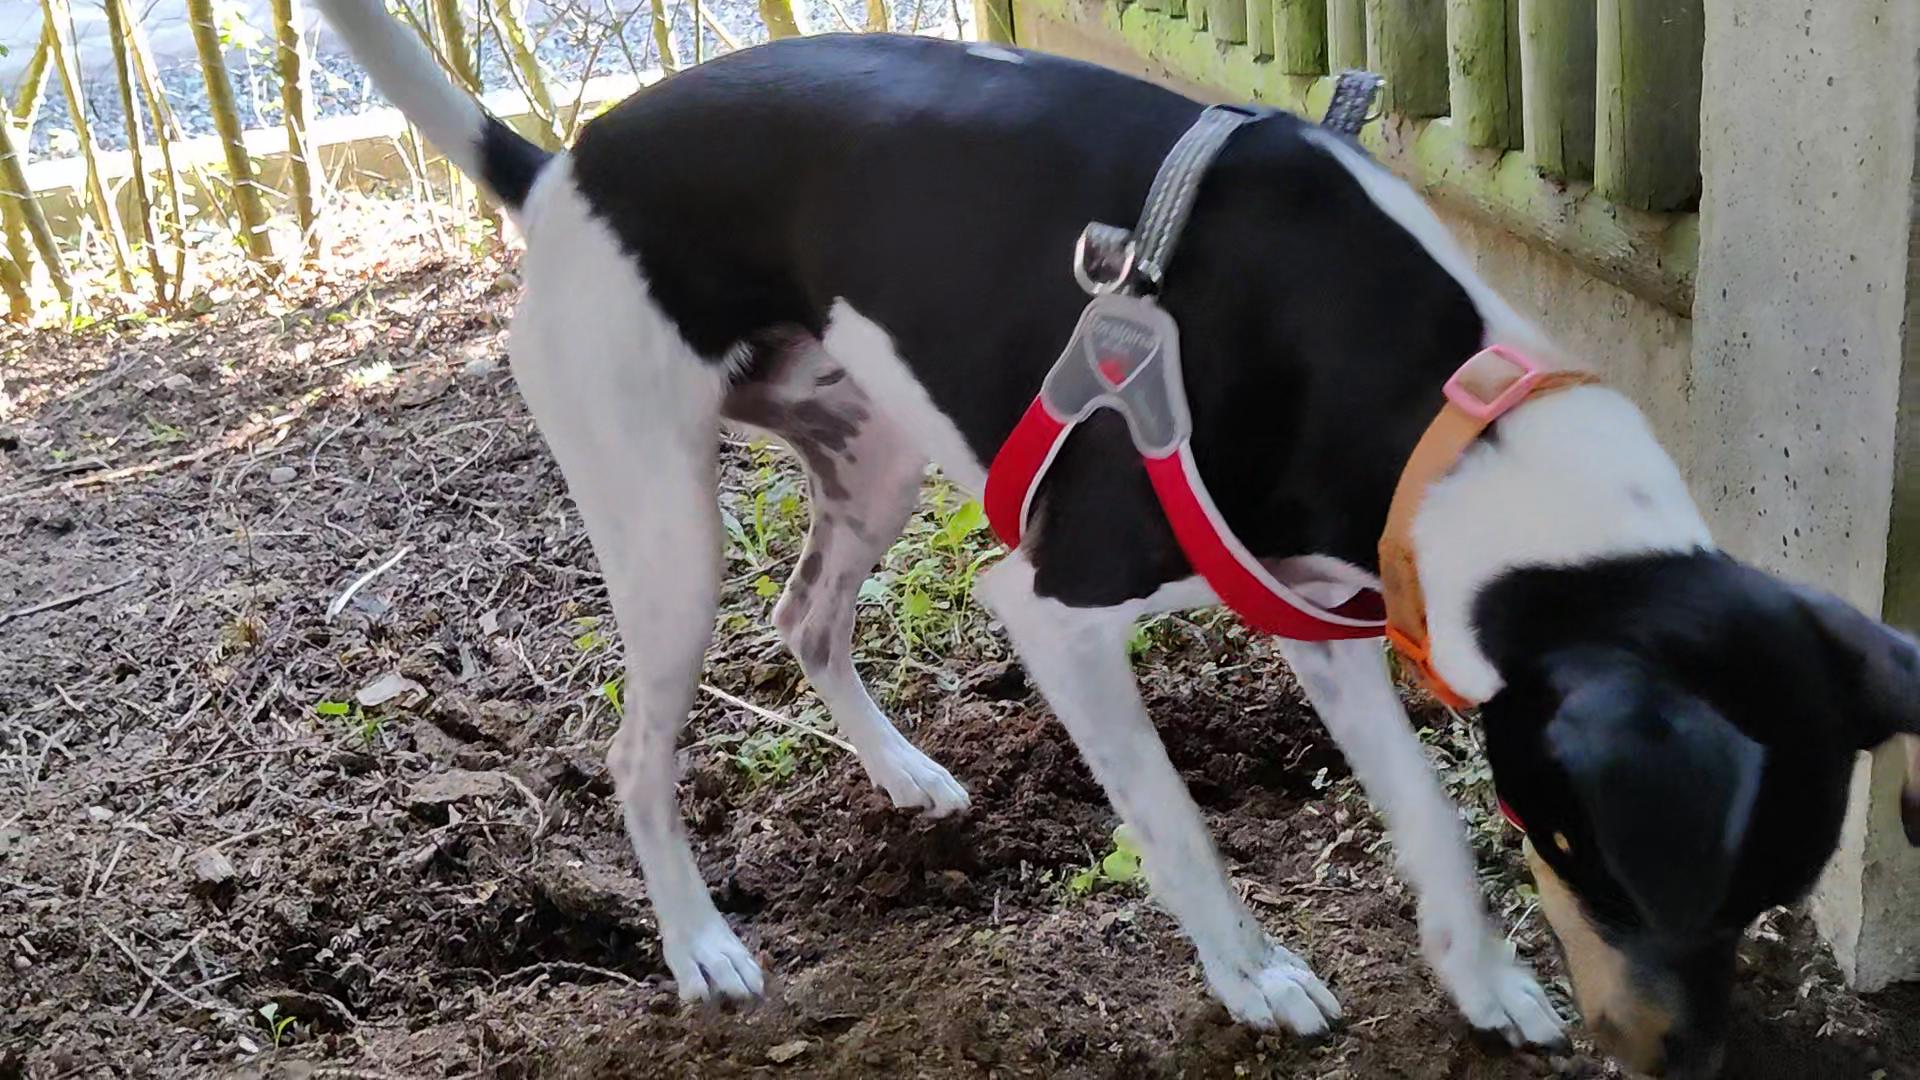Dog: (319, 0, 1919, 1080)
